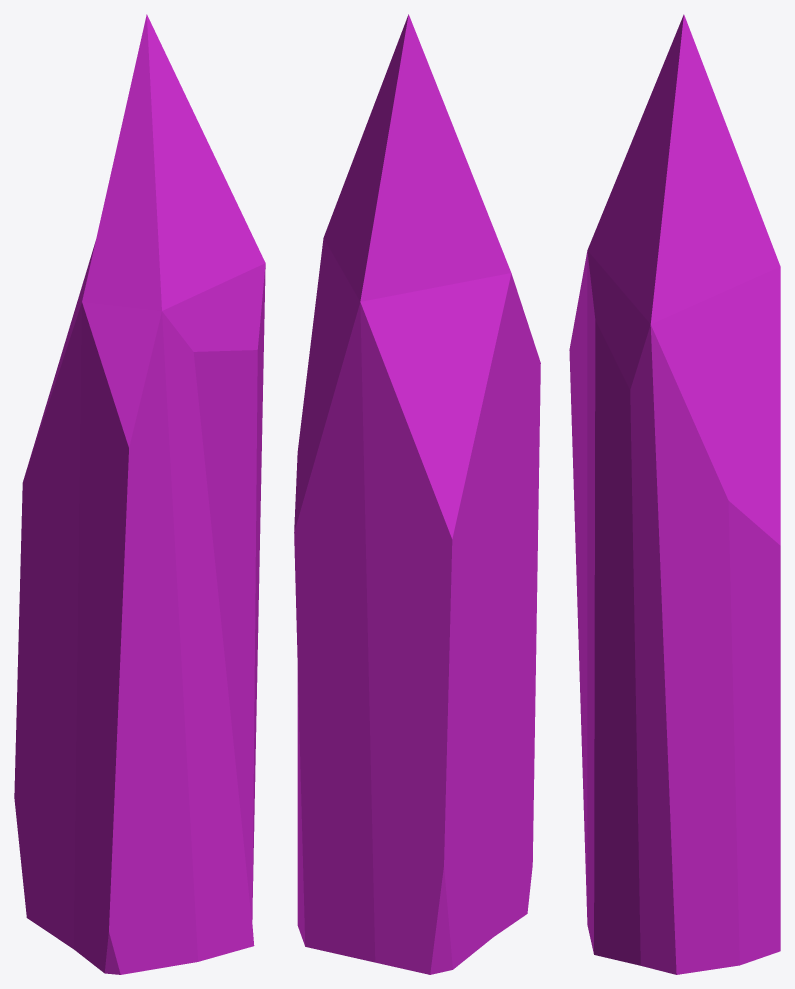
File: Boss Crystal1.fbx
3 renders of one model, left to right at view 1: azimuth 30°, elevation 25°; view 2: azimuth 150°, elevation 25°; view 3: azimuth 270°, elevation 25°, orthographic.
Parts seen in each view (by area): view 1: boss crystal.001; view 2: boss crystal.001; view 3: boss crystal.001.
Boxes of the visible parts, x1=… form: boss crystal.001: x1=14, y1=14, x2=265, y2=974; boss crystal.001: x1=294, y1=14, x2=540, y2=974; boss crystal.001: x1=569, y1=14, x2=780, y2=974.
Bounding box in the file's own units: 0.5137 × 2.41 × 0.5066.
